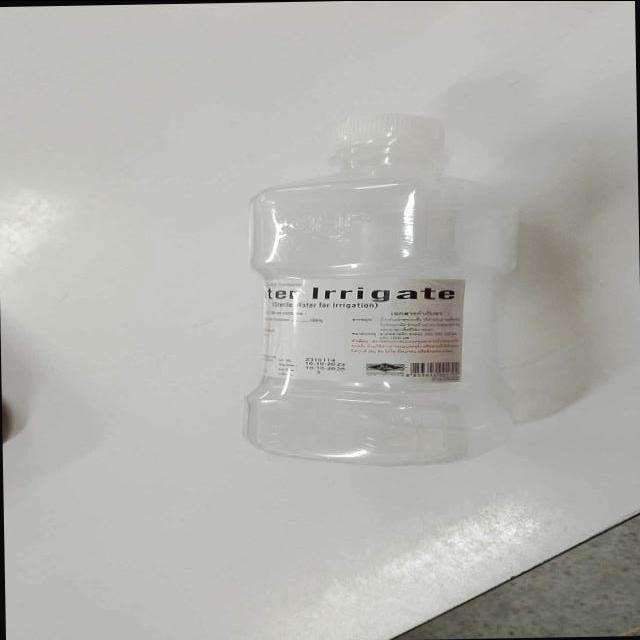General: (240, 109, 526, 468)
